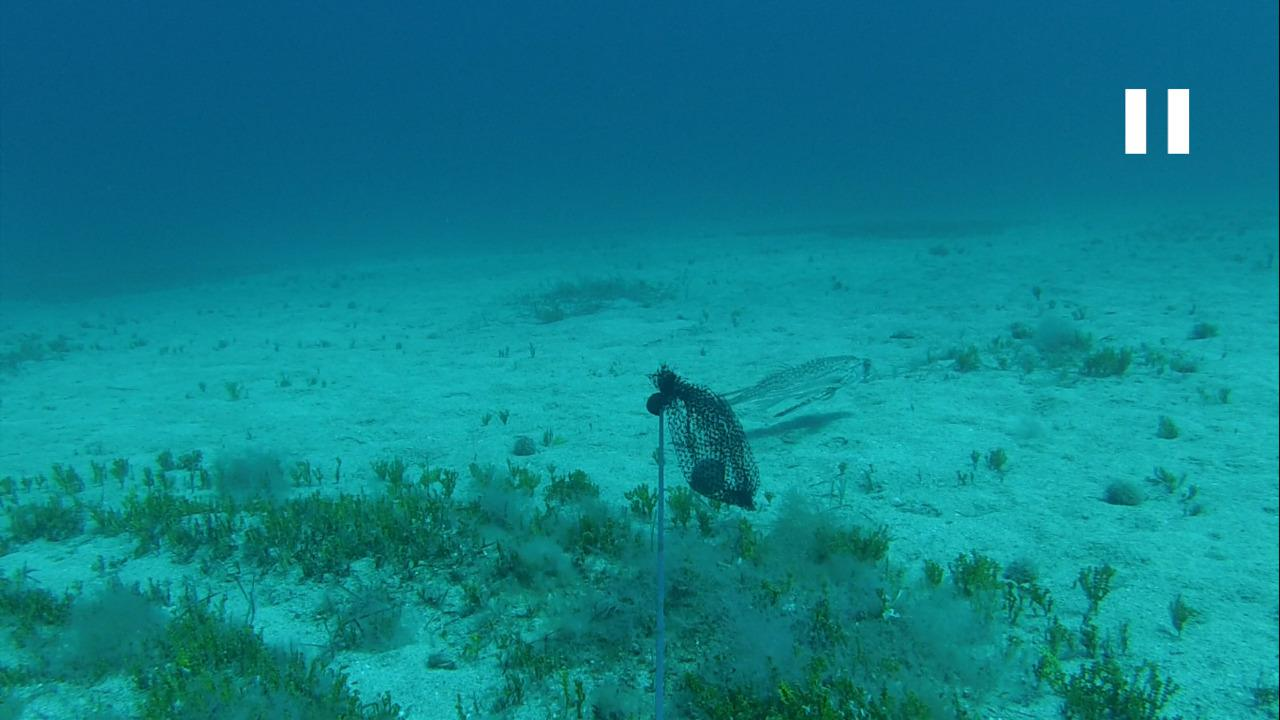dactylopterus: (720, 348, 877, 421)
